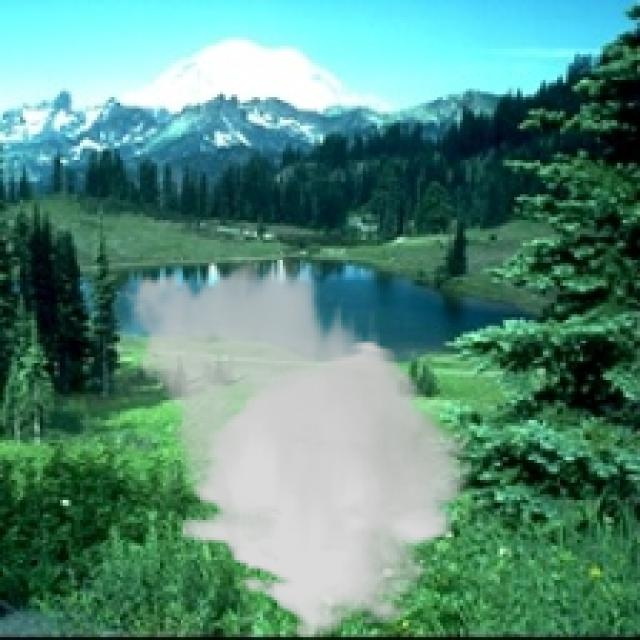smoke: (114, 249, 474, 637)
